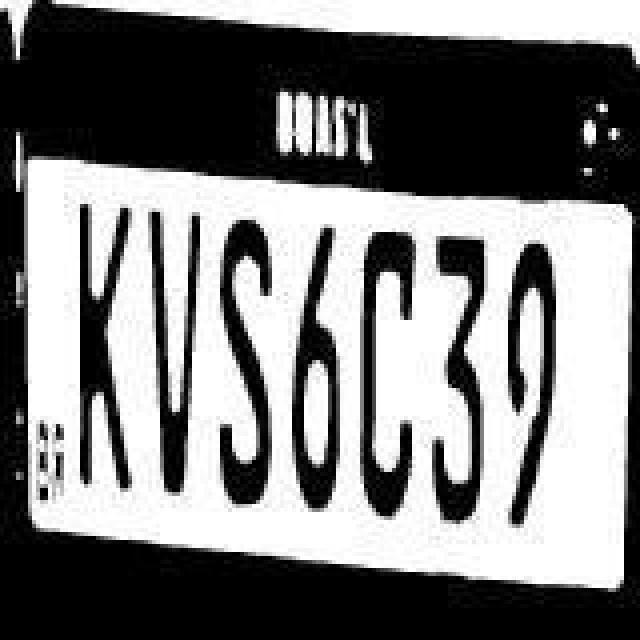3: (432, 226, 496, 526)
6: (292, 220, 348, 516)
9: (496, 234, 560, 534)
C: (352, 220, 424, 524)
K: (68, 198, 140, 498)
S: (214, 218, 282, 518)
V: (146, 204, 206, 508)
